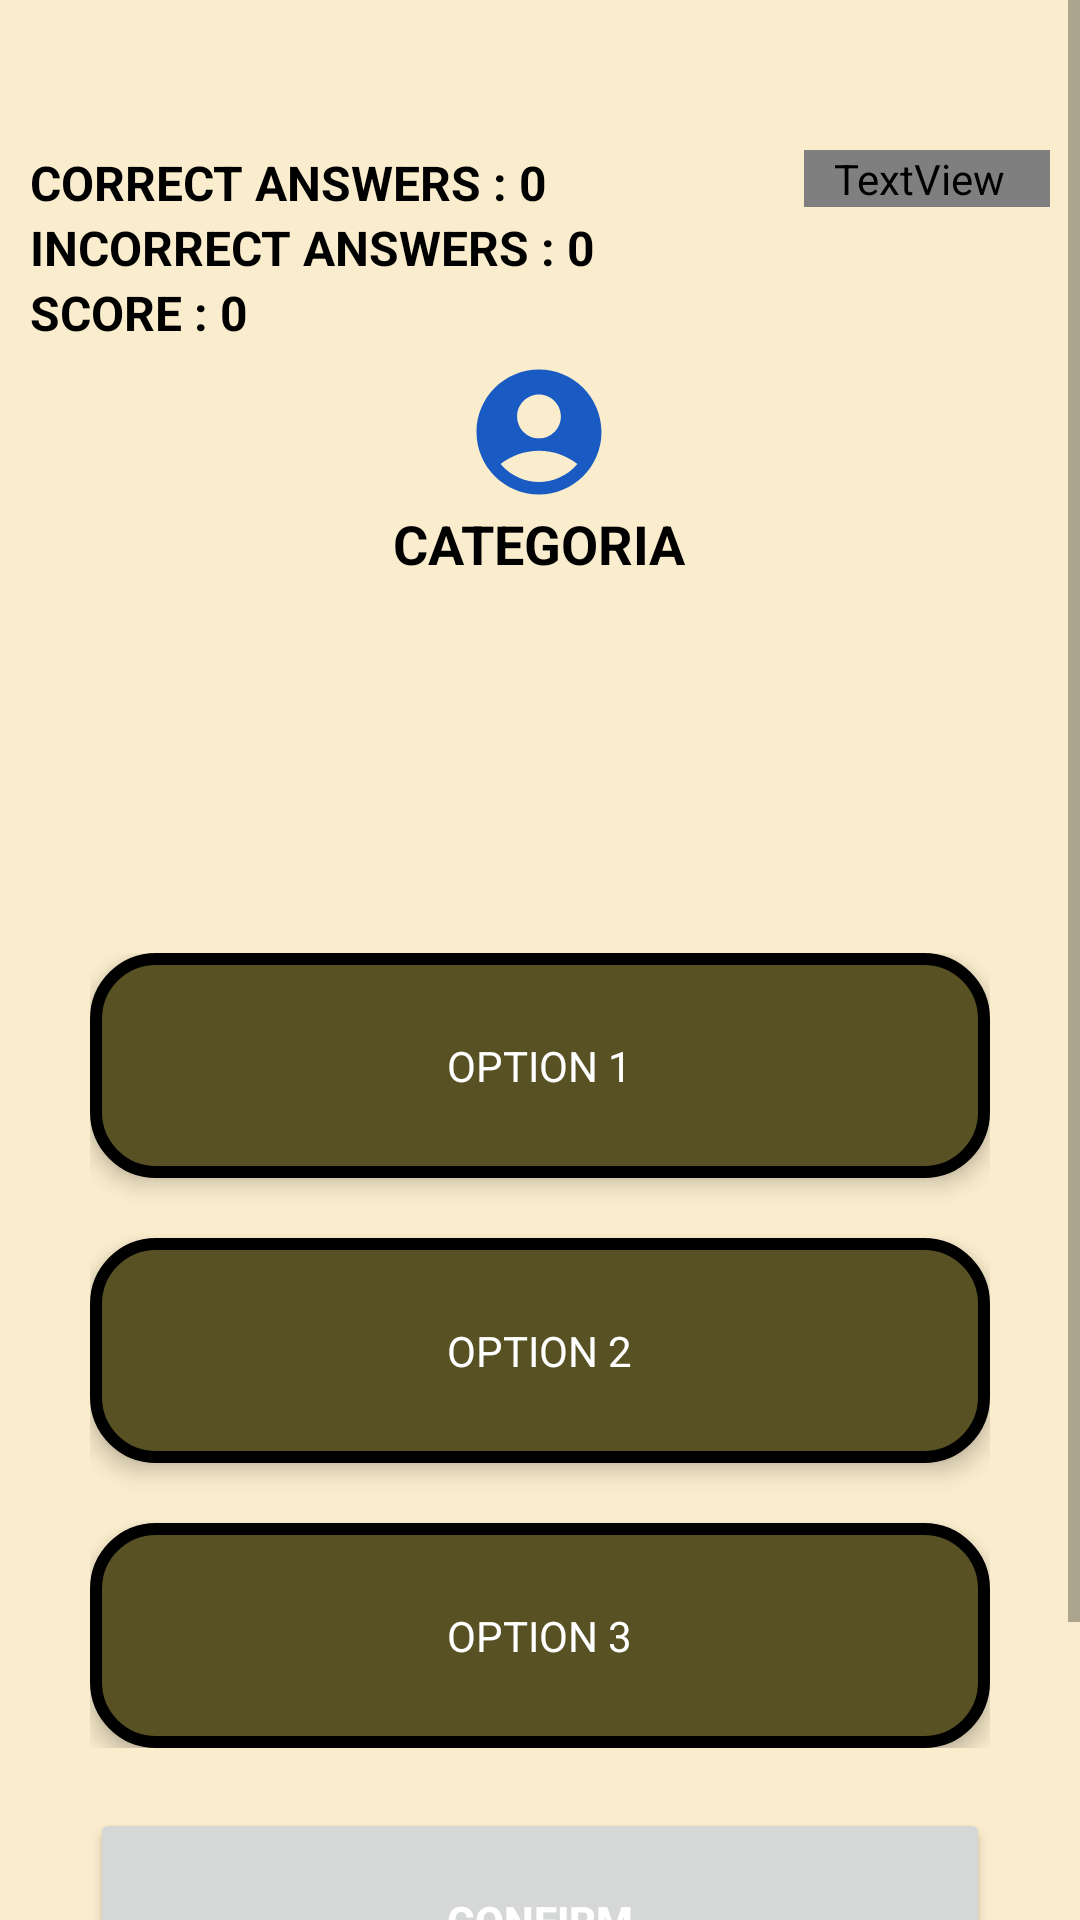

Named icons in this screenshot (1080px x 1920px) and their centers, (x,y):
account circle: (539,432)
